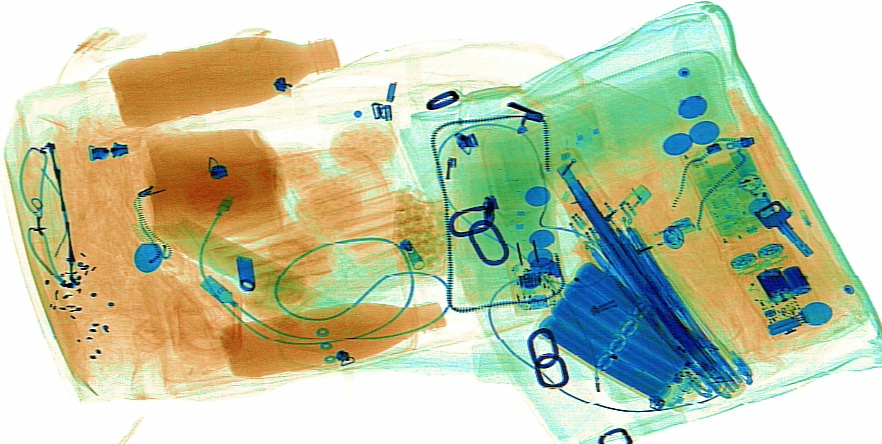lighter: (567, 179, 654, 270), (607, 215, 693, 262)
powerbank: (533, 260, 720, 411)
